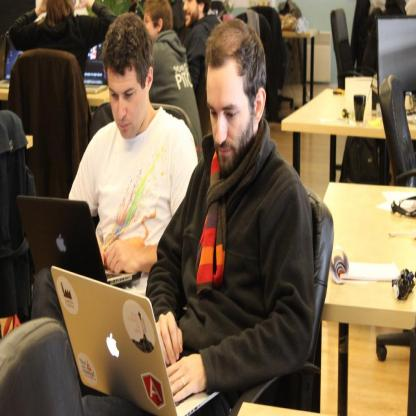board: (52, 266, 218, 416), (14, 197, 142, 286), (0, 30, 23, 91), (82, 44, 108, 96)
